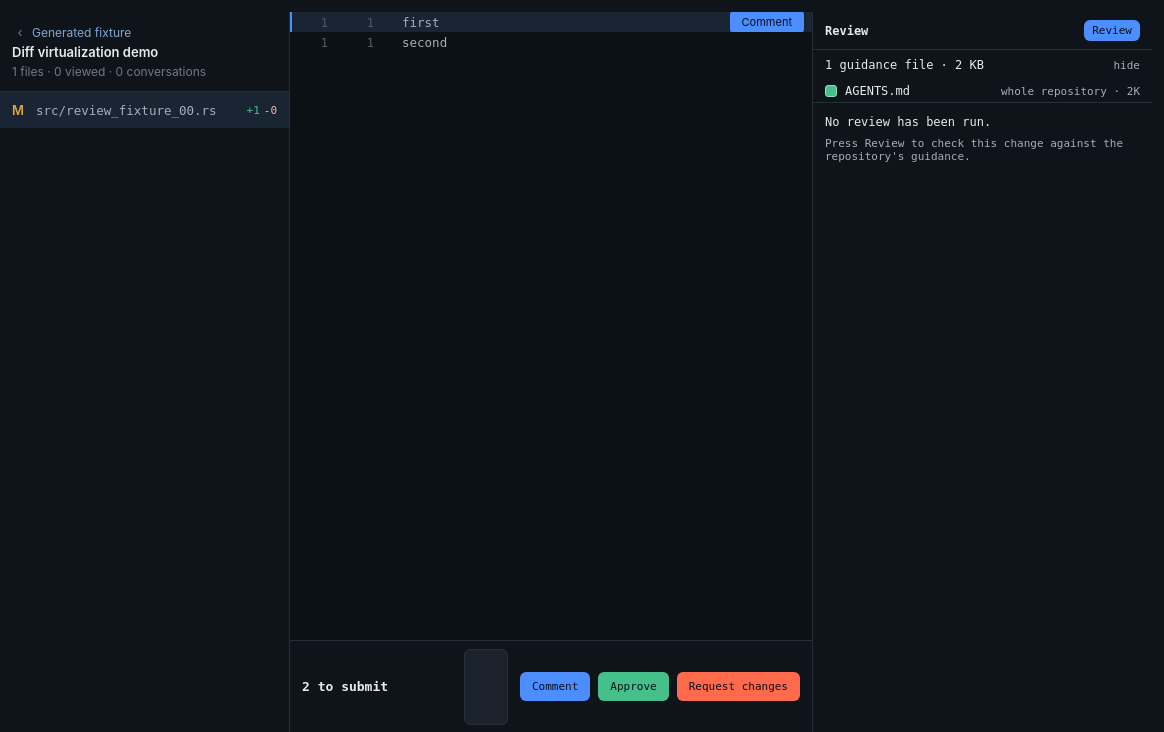
Test: the confirmation › shows the verdict, the summary, and every draft with its file and line
The image size is (1164, 732).
Expected: the button "Approve" is shown, left=598, top=672, right=669, bottom=701
Click the button "Comment" next to "to submit".
click(555, 686)  # box left=520, top=672, right=590, bottom=701
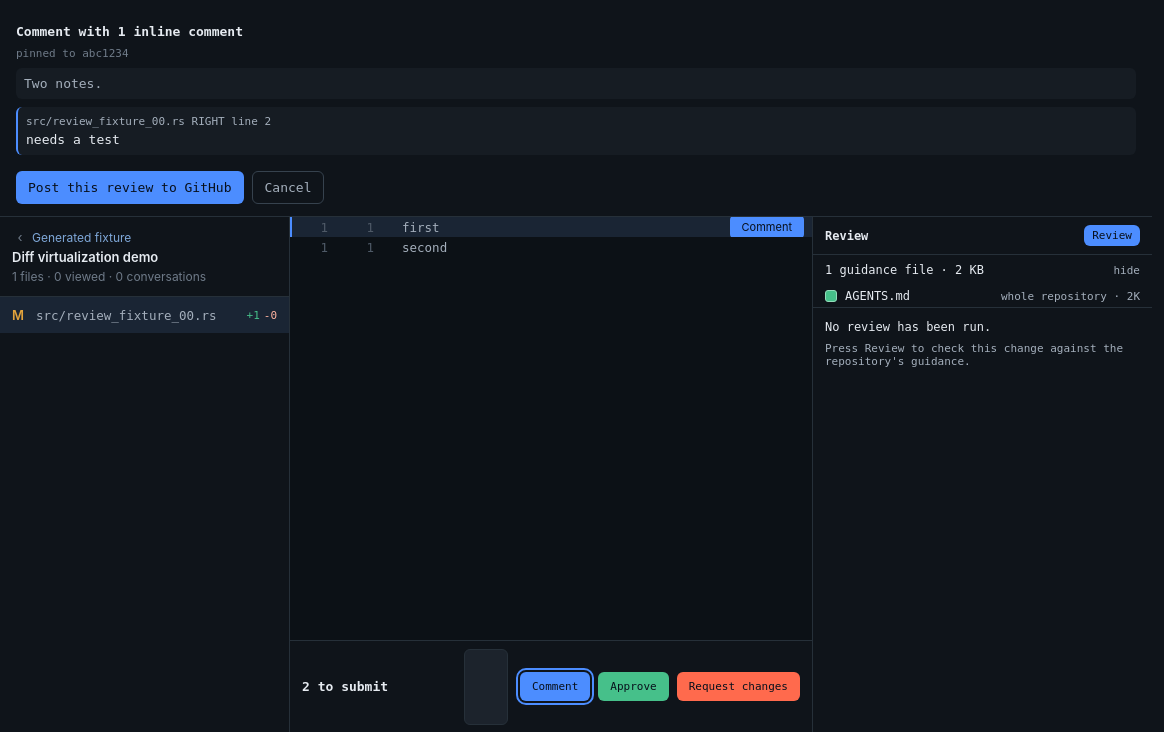
Expected: the button "Post this review to GitHub" is shown, left=16, top=171, right=244, bottom=204
Expected: the text "Comment with 1 inline comment" is shown, left=16, top=24, right=243, bottom=39
Expected: the text "pinned to abc1234" is shown, left=16, top=47, right=129, bottom=60
